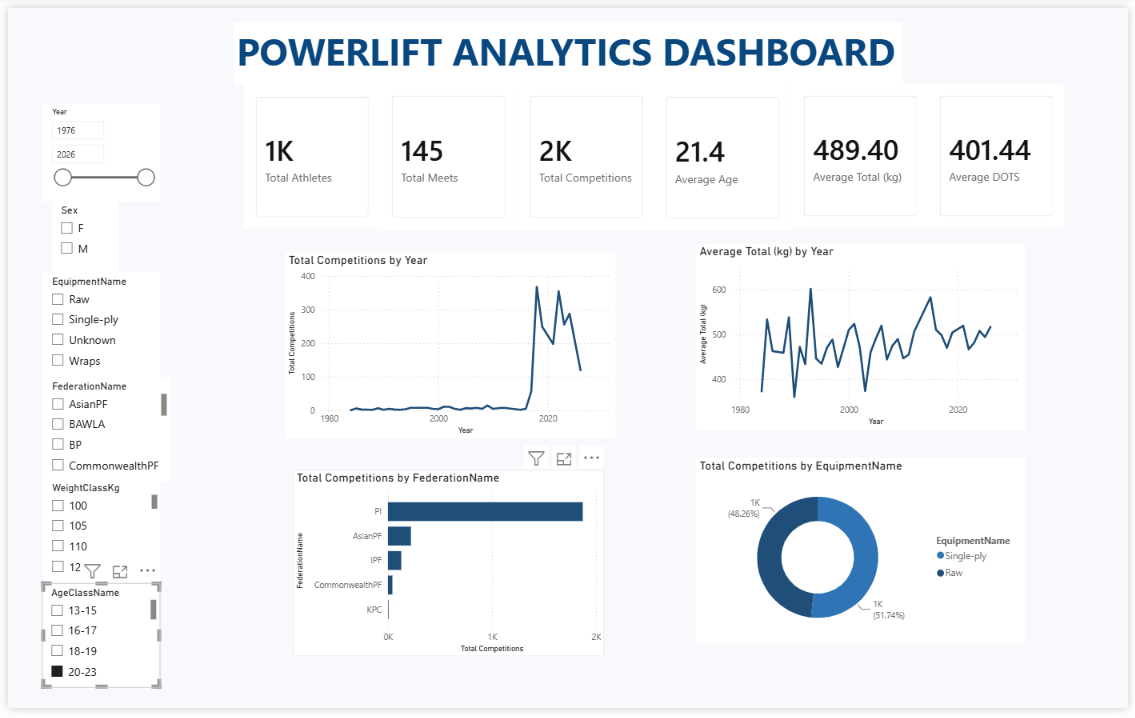

The dashboard page shown, as its layout file describes it:
{"tool":"powerbi","page":{"name":"Executive Dashboard","canvas":[1600,1000],"ordinal":0},"visuals":[{"type":"cardVisual","fields":{"Data":["Measure Table.Total Athletes"]},"box":[336.7,110,195,205],"z":0},{"type":"lineChart","fields":{"Category":["dim_date.Year"],"Y":["Measure Table.Total Competitions"]},"box":[395,350,471.7,265],"z":1000},{"type":"cardVisual","fields":{"Data":["Measure Table.Average Age"]},"box":[923.3,110,196.7,208.3],"z":2000},{"type":"cardVisual","fields":{"Data":["Measure Table.Total Competitions"]},"box":[728.3,108.3,195,208.3],"z":3000},{"type":"cardVisual","fields":{"Data":["Measure Table.Average Total"]},"box":[1120,108.3,195,206.7],"z":4000},{"type":"cardVisual","fields":{"Data":["Measure Table.Average DOTS"]},"box":[1315,108.3,195,206.7],"z":5000},{"type":"cardVisual","fields":{"Data":["Measure Table.Total Meets"]},"box":[531.7,108.3,196.7,208.3],"z":6000},{"type":"lineChart","fields":{"Y":["Measure Table.Average Total"],"Category":["dim_date.Year"]},"box":[983.3,336.7,470,265],"z":7000},{"type":"clusteredBarChart","fields":{"Category":["dim_federation.FederationName"],"Y":["Measure Table.Total Competitions"]},"box":[406.7,660,445,266.7],"z":8000},{"type":"donutChart","fields":{"Category":["dim_equipment.EquipmentName"],"Y":["Measure Table.Total Competitions"]},"box":[983.3,643.3,470,265],"z":9000},{"type":"slicer","fields":{"Values":["dim_date.Year"]},"box":[50,136.7,168.3,138.3],"z":10000},{"type":"slicer","fields":{"Values":["dim_athlete.Sex"]},"box":[63.3,275,93.3,101.7],"z":11000},{"type":"slicer","fields":{"Values":["dim_equipment.EquipmentName"]},"box":[50,376.7,168.3,150],"z":12000},{"type":"slicer","fields":{"Values":["dim_federation.FederationName"]},"box":[50,526.7,181.7,150],"z":13000},{"type":"slicer","fields":{"Values":["dim_weight_class.WeightClassKg"]},"box":[50,671.7,168.3,150],"z":14000},{"type":"slicer","fields":{"Values":["dim_age_class.AgeClassName"]},"box":[48.3,821.7,168.3,150],"z":15000},{"type":"textbox","box":[321.7,20,956.7,90],"z":16000}]}

Visuals, with their boxes in screenshot pixels (x1, y1, x2, y2), scaled from the page's 1600x1000 canvas onto the 1135x718 screenshot:
cardVisual - Measure Table.Total Athletes: {"left": 239, "top": 79, "right": 377, "bottom": 226}
lineChart - dim_date.Year x Measure Table.Total Competitions: {"left": 280, "top": 251, "right": 615, "bottom": 442}
cardVisual - Measure Table.Average Age: {"left": 655, "top": 79, "right": 794, "bottom": 229}
cardVisual - Measure Table.Total Competitions: {"left": 517, "top": 78, "right": 655, "bottom": 227}
cardVisual - Measure Table.Average Total: {"left": 794, "top": 78, "right": 933, "bottom": 226}
cardVisual - Measure Table.Average DOTS: {"left": 933, "top": 78, "right": 1071, "bottom": 226}
cardVisual - Measure Table.Total Meets: {"left": 377, "top": 78, "right": 517, "bottom": 227}
lineChart - Measure Table.Average Total x dim_date.Year: {"left": 698, "top": 242, "right": 1031, "bottom": 432}
clusteredBarChart - dim_federation.FederationName x Measure Table.Total Competitions: {"left": 289, "top": 474, "right": 604, "bottom": 665}
donutChart - dim_equipment.EquipmentName x Measure Table.Total Competitions: {"left": 698, "top": 462, "right": 1031, "bottom": 652}
slicer - dim_date.Year: {"left": 35, "top": 98, "right": 155, "bottom": 197}
slicer - dim_athlete.Sex: {"left": 45, "top": 197, "right": 111, "bottom": 270}
slicer - dim_equipment.EquipmentName: {"left": 35, "top": 270, "right": 155, "bottom": 378}
slicer - dim_federation.FederationName: {"left": 35, "top": 378, "right": 164, "bottom": 486}
slicer - dim_weight_class.WeightClassKg: {"left": 35, "top": 482, "right": 155, "bottom": 590}
slicer - dim_age_class.AgeClassName: {"left": 34, "top": 590, "right": 154, "bottom": 698}
textbox: {"left": 228, "top": 14, "right": 907, "bottom": 79}
